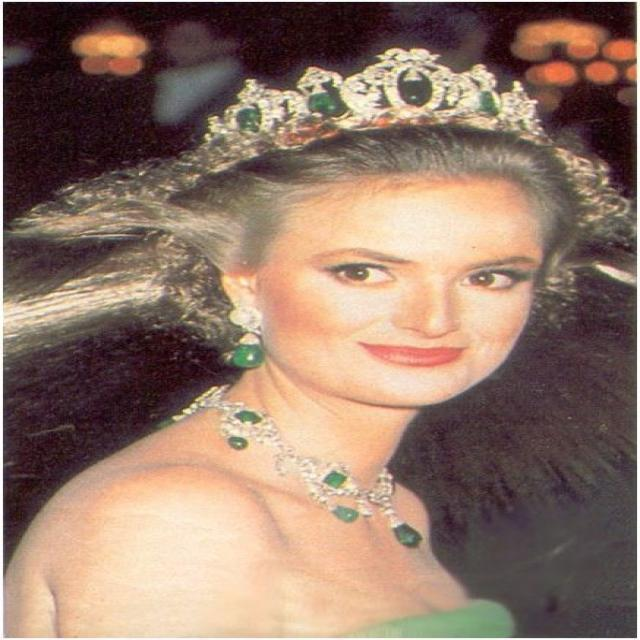Earring: (216, 290, 266, 379)
